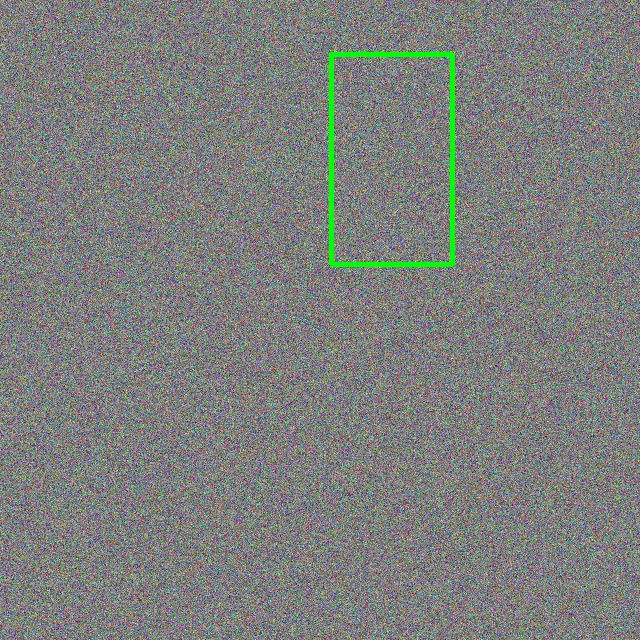base: (331, 54, 452, 264)
